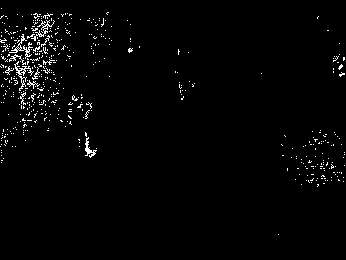person: (65, 94, 105, 163)
